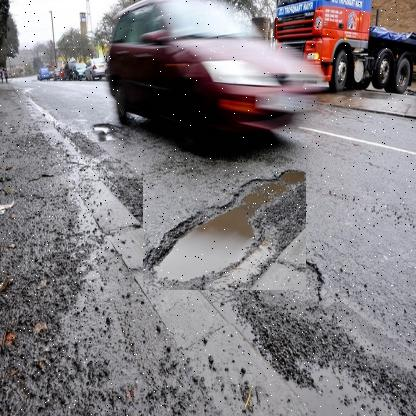pothole_water: (142, 162, 306, 291)
